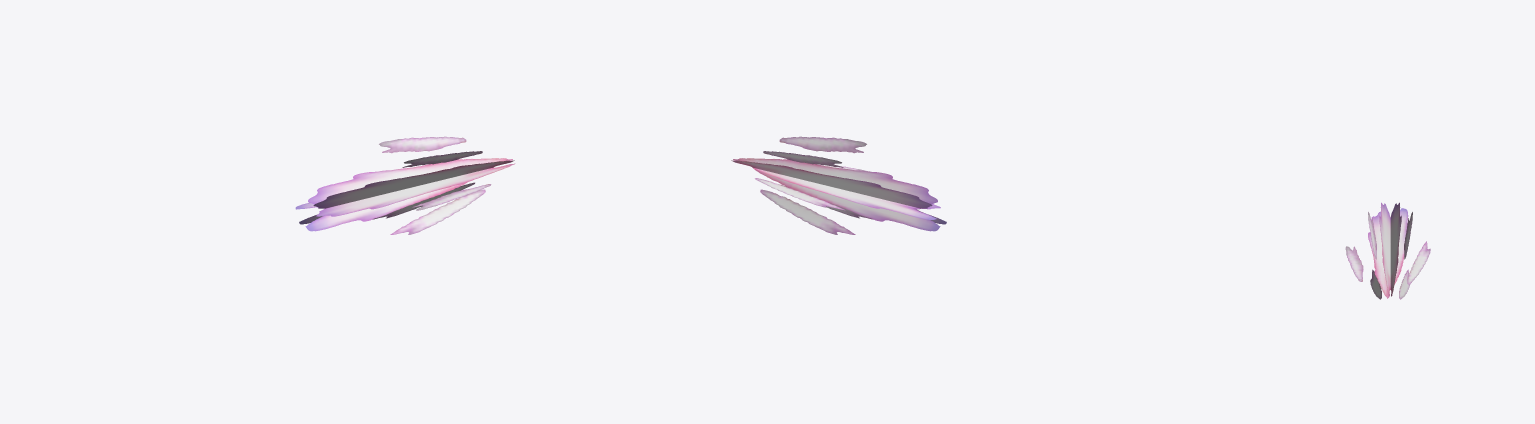
Rendered from chongjiguang_001.FBX.
The picture shows the model from 3 angles, left to right: view 1: azimuth 30°, elevation 25°; view 2: azimuth 150°, elevation 25°; view 3: azimuth 270°, elevation 25°; orthographic projection. The views are drawn at different scales.
Visible parts, largest first — view 1: Plane001; view 2: Plane001; view 3: Plane001.
Boxes of the visible parts, box(x1,y1,x2,y2) form: Plane001: box(295, 136, 515, 234); Plane001: box(731, 136, 946, 234); Plane001: box(1345, 202, 1430, 299).
Bounding box in the file's own units: 12.76 × 6.37 × 7.35.
